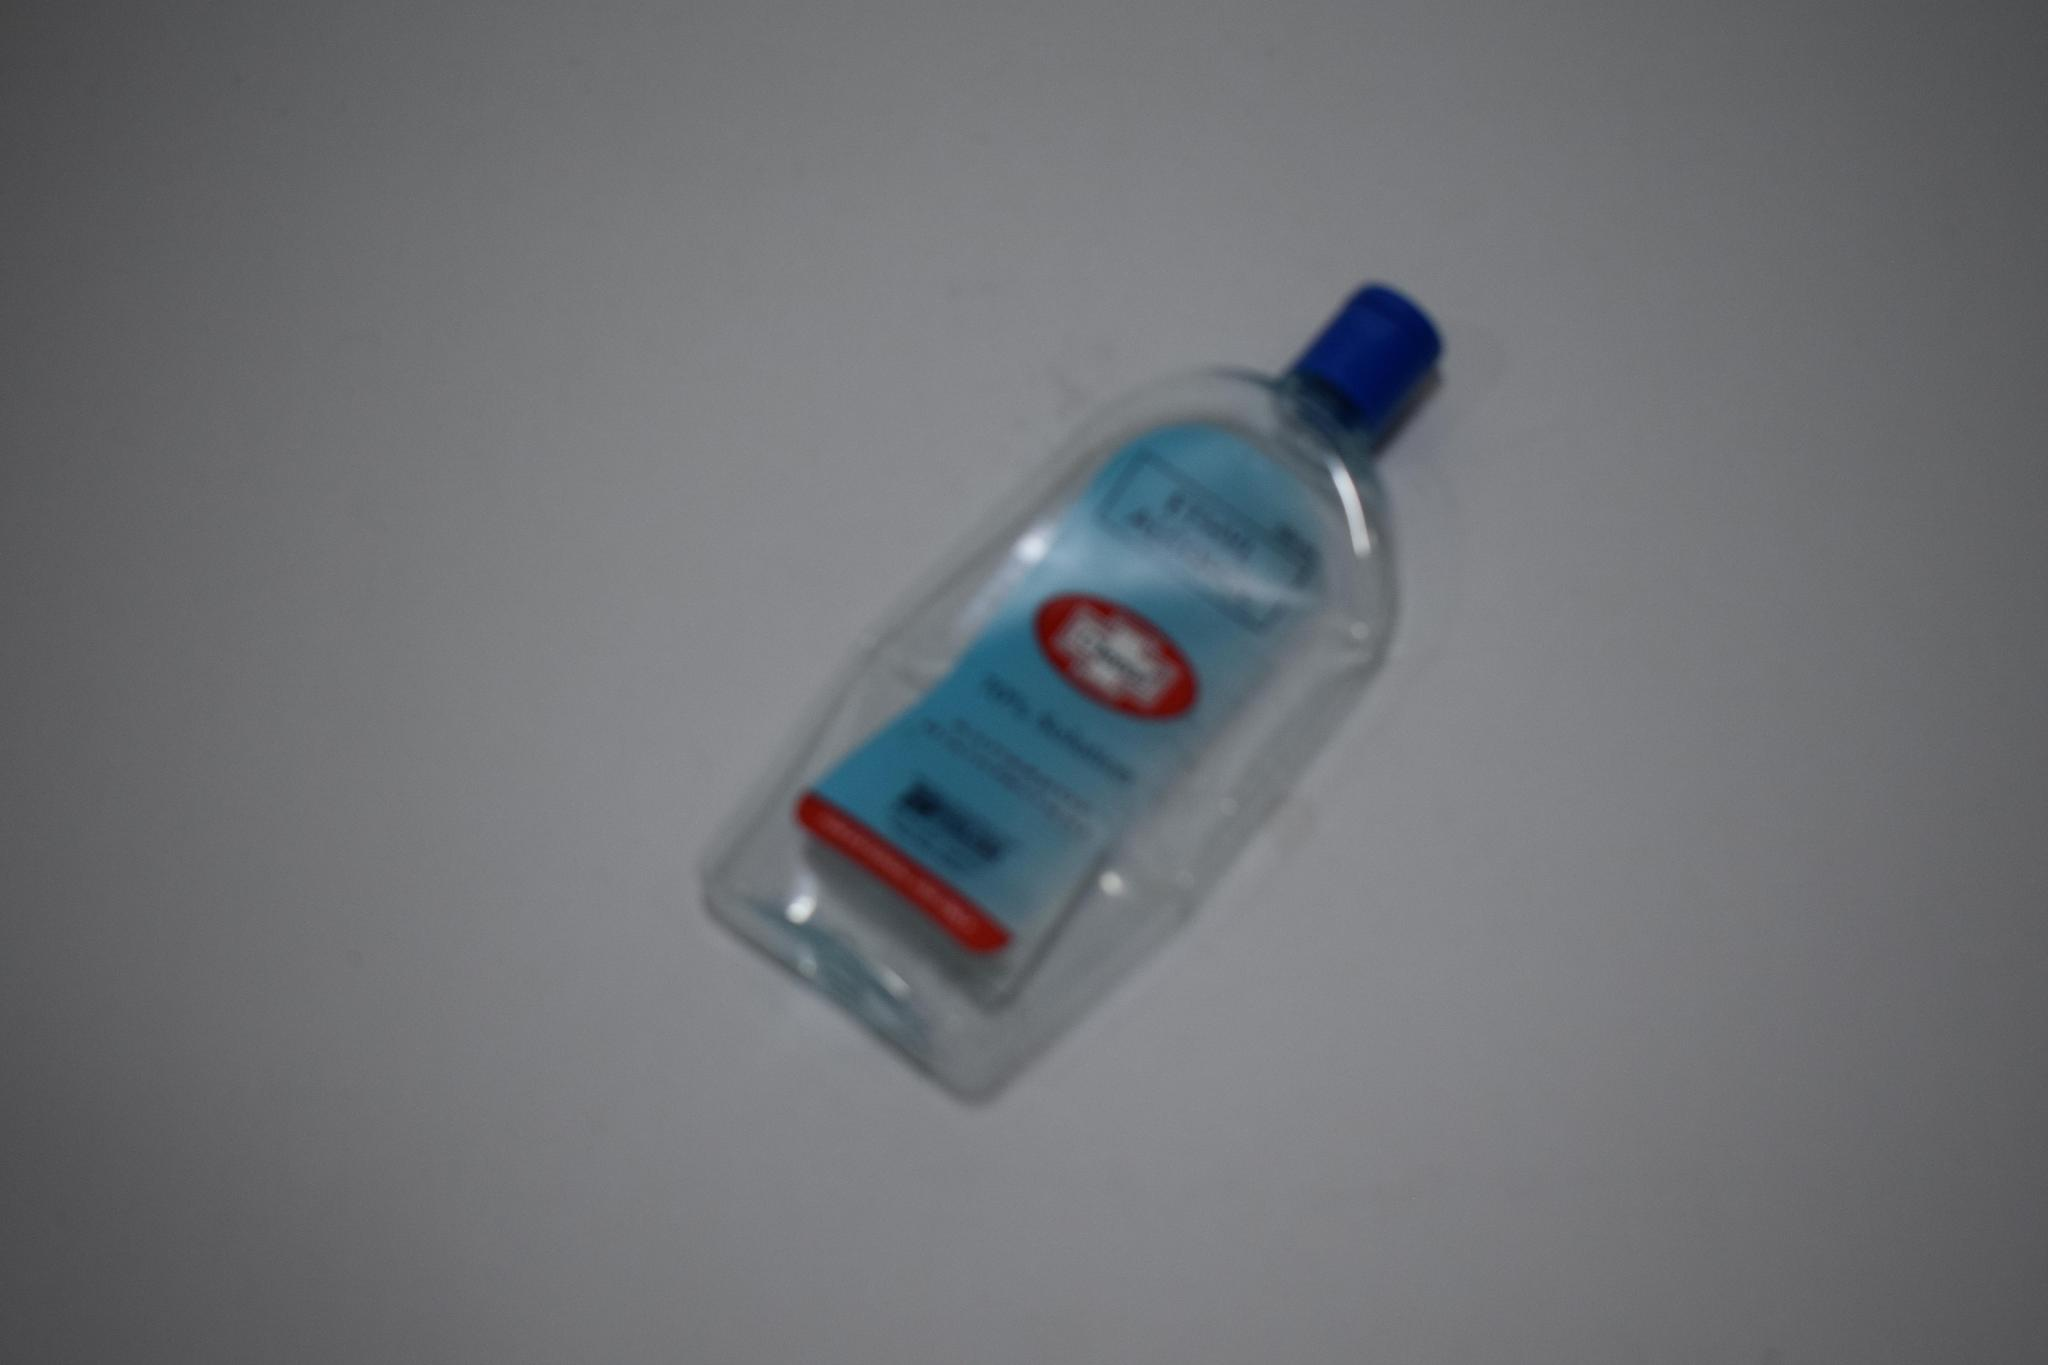bottle: (655, 155, 1459, 1123)
